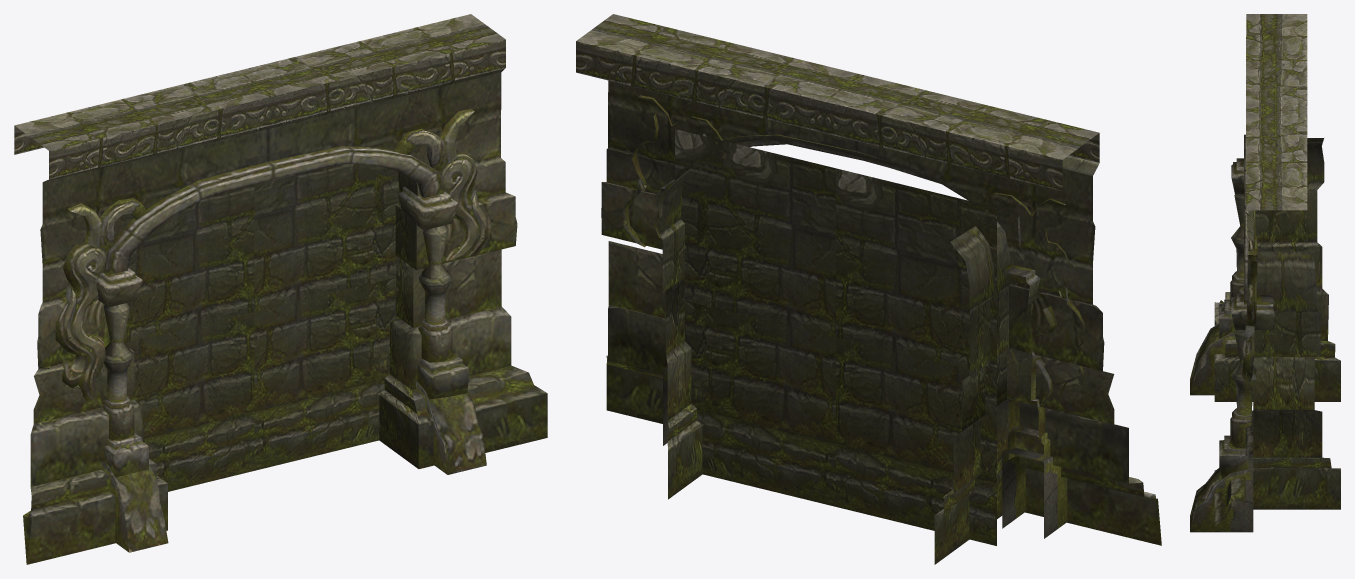
Rendered from 4009_Item_qiang_8.FBX.
3 renders of one model, left to right at view 1: azimuth 30°, elevation 25°; view 2: azimuth 150°, elevation 25°; view 3: azimuth 270°, elevation 25°, orthographic. The views are drawn at different scales.
Parts seen in each view (by area): view 1: 4009_Item_qiang_8; view 2: 4009_Item_qiang_8; view 3: 4009_Item_qiang_8.
Boxes of the visible parts, x1,y1,x2,y2 form: 4009_Item_qiang_8: (14,14,547,564); 4009_Item_qiang_8: (576,14,1161,564); 4009_Item_qiang_8: (1190,14,1340,532).
Bounding box in the file's own units: 713 × 511 × 203.
